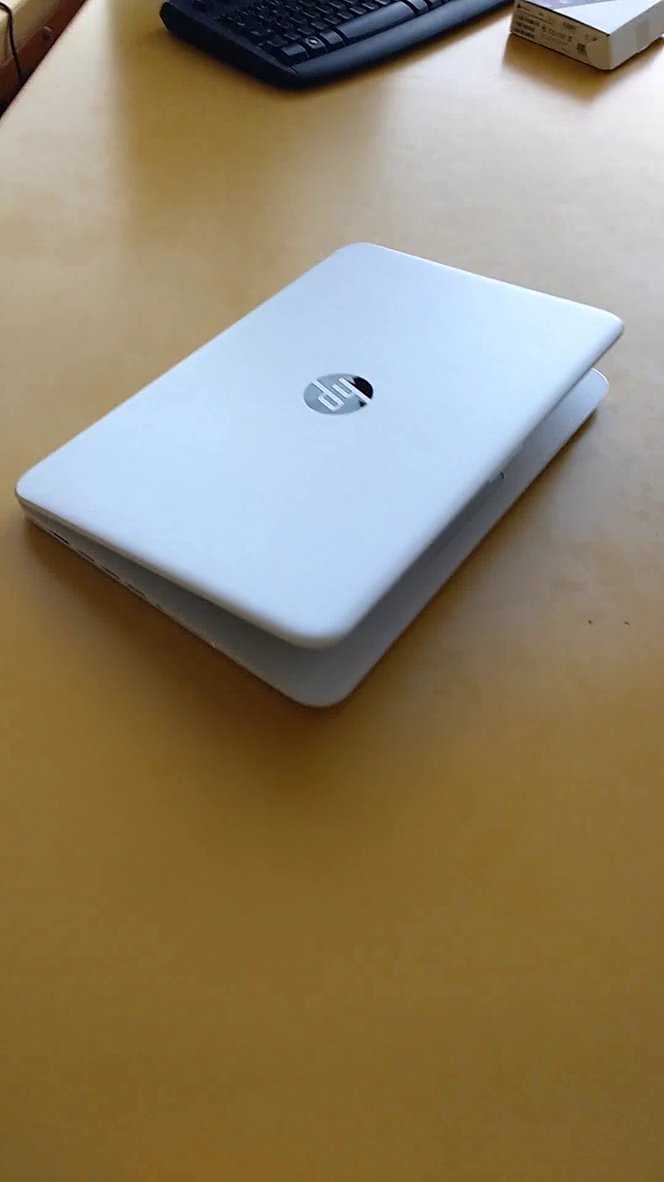laptop: (4, 231, 632, 730)
